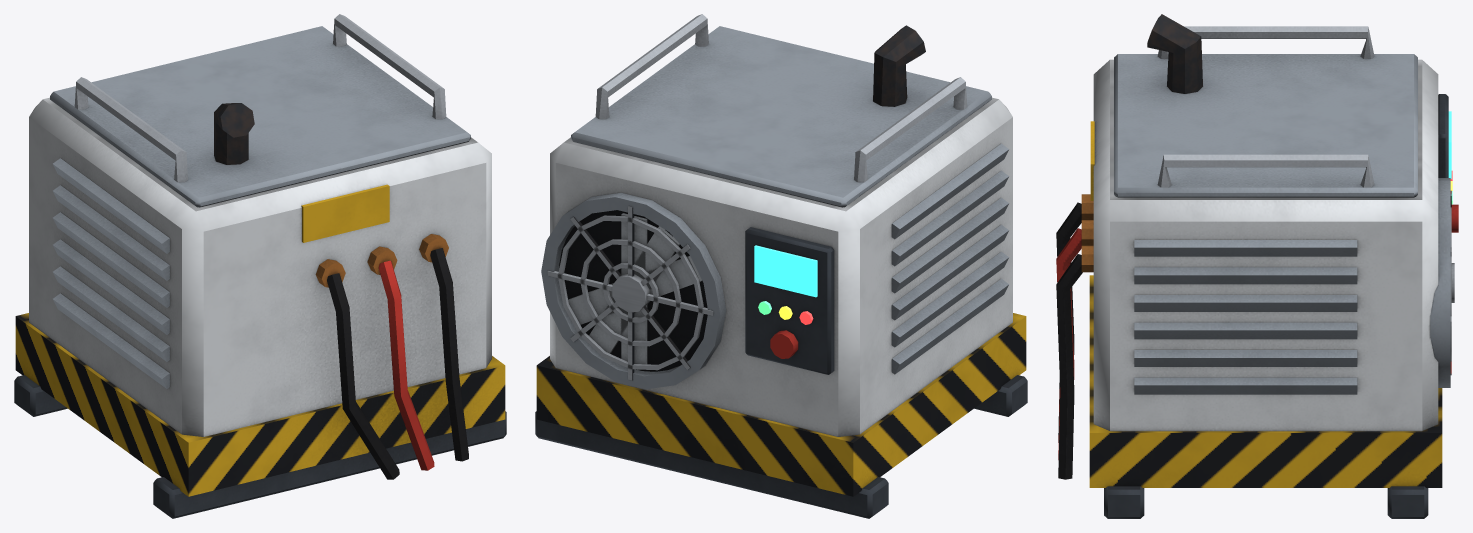
Rendered from generador_electrico.fbx.
3 views of the same model, side by side, from view 1: azimuth 30°, elevation 25°; view 2: azimuth 150°, elevation 25°; view 3: azimuth 270°, elevation 25° (orthographic).
Visible parts, largest first — view 1: generador_electrico; view 2: generador_electrico, generador_electrico_ventilador, generador_electrico_pantalla_neon; view 3: generador_electrico.
Part boxes in pixels (x1,y1,x2,y2): generador_electrico: (14,14,506,518); generador_electrico: (535,14,1027,518); generador_electrico_ventilador: (568,213,701,364); generador_electrico_pantalla_neon: (754,245,817,297); generador_electrico: (1056,14,1458,518).
Bounding box in the file's own units: 1.96 × 2.08 × 1.98.
2 materials, 2 textured.
